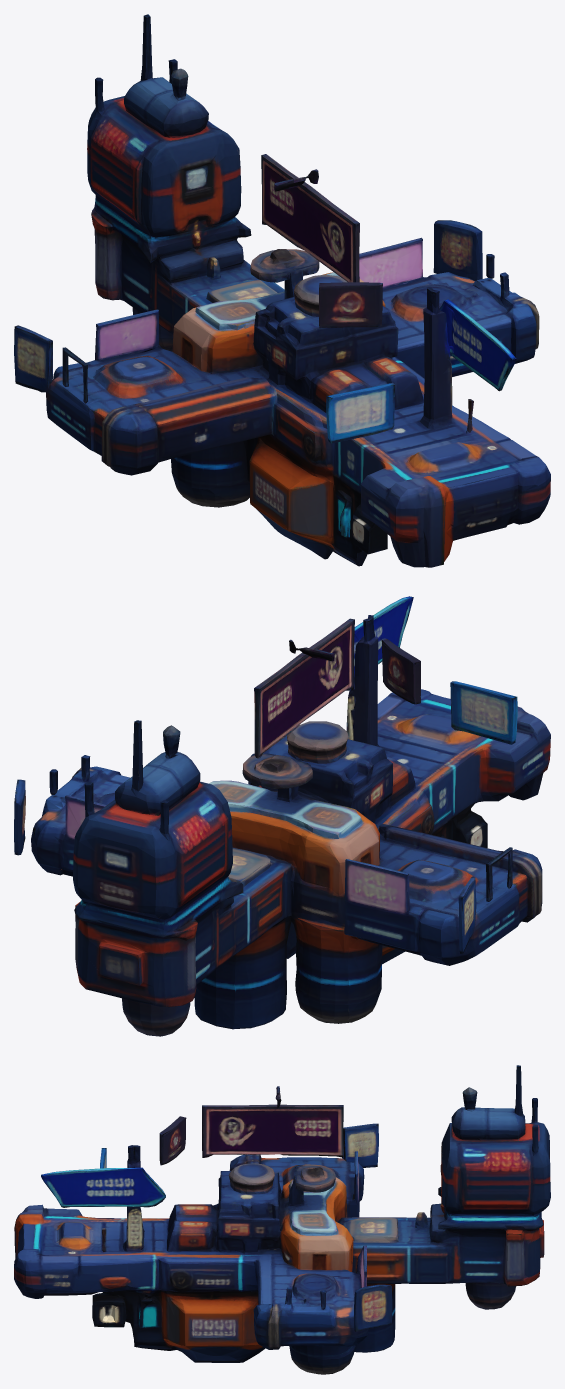
Rendered from shop.glb.
3 renders of one model, top to bottom at view 1: azimuth 30°, elevation 25°; view 2: azimuth 150°, elevation 25°; view 3: azimuth 270°, elevation 25°, orthographic. The views are drawn at different scales.
Visible parts, largest first — view 1: world; view 2: world; view 3: world.
Part boxes in pixels (x1=…): world: x1=14, y1=14, x2=550, y2=567; world: x1=14, y1=596, x2=550, y2=1036; world: x1=14, y1=1065, x2=550, y2=1374.
Bounding box in the file's own units: 0.7282 × 0.5785 × 0.9938.
1 material, 1 textured.
